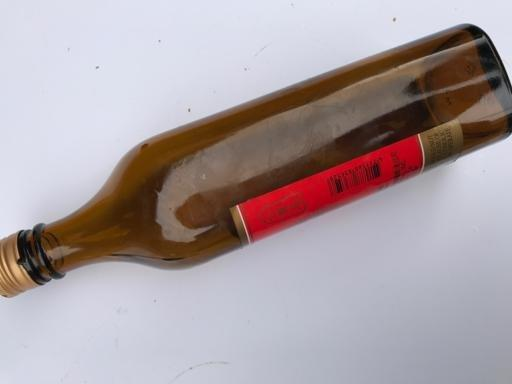botolkaca: (1, 22, 512, 300)
